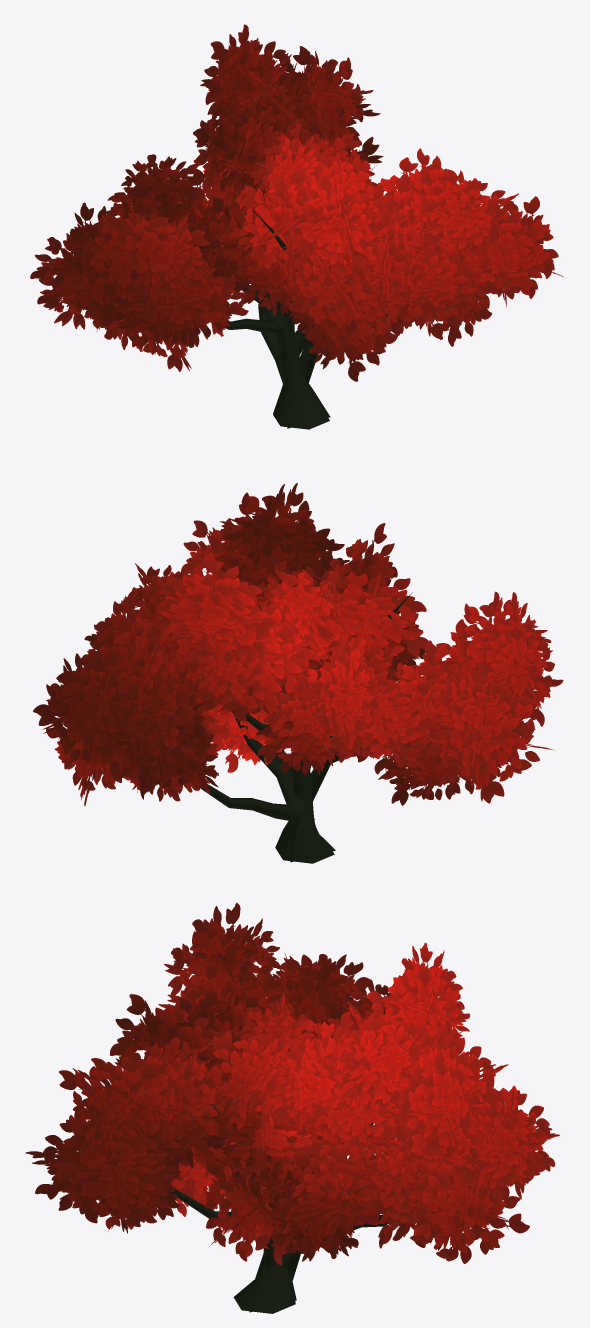
File: tree_small.glb
3 views of the same model, one above another, from view 1: azimuth 30°, elevation 25°; view 2: azimuth 150°, elevation 25°; view 3: azimuth 270°, elevation 25° (orthographic). The views are drawn at different scales.
Parts seen in each view (by area): view 1: tree_small; view 2: tree_small; view 3: tree_small.
Part boxes in pixels (x1=…): tree_small: x1=30, y1=24, x2=562, y2=429; tree_small: x1=33, y1=483, x2=563, y2=863; tree_small: x1=25, y1=902, x2=559, y2=1313.
Bounding box in the file's own units: 17.99 × 12.8 × 17.27.
1 material, 1 textured.
